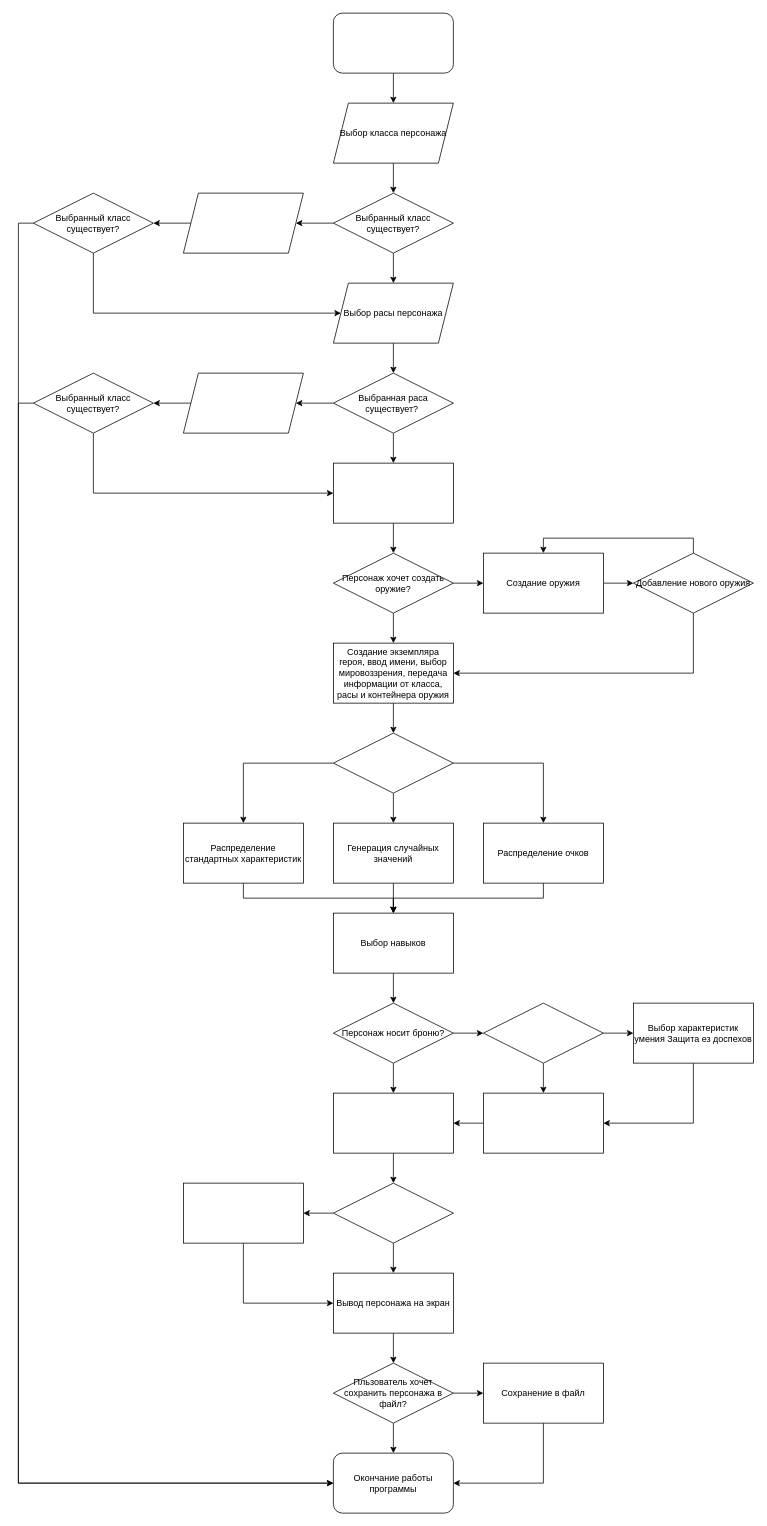
This 767x1526 diagram has some shape labels left out. Each missing label, with the centre of its shape:
"Выбор метода распределения характеристик" goes at [393,762].
"Заполнение инвентаря" goes at [243,1212].
"Начало работы программы" goes at [393,42].
"Персонаж владеет защитой без доспехов?" goes at [543,1032].
"Повторный выбор класса персонажа" goes at [243,222].
"Повторный выбор рассы персонажа" goes at [243,402].
"Пользователь хочет заполнить инвентарь?" goes at [393,1212].
"Создание заклинаний" goes at [393,1122].
"Создание экземлпяров расы и класса, считывание их файлов" goes at [393,492].
"Установка значения КД без доспехов" goes at [543,1122].
